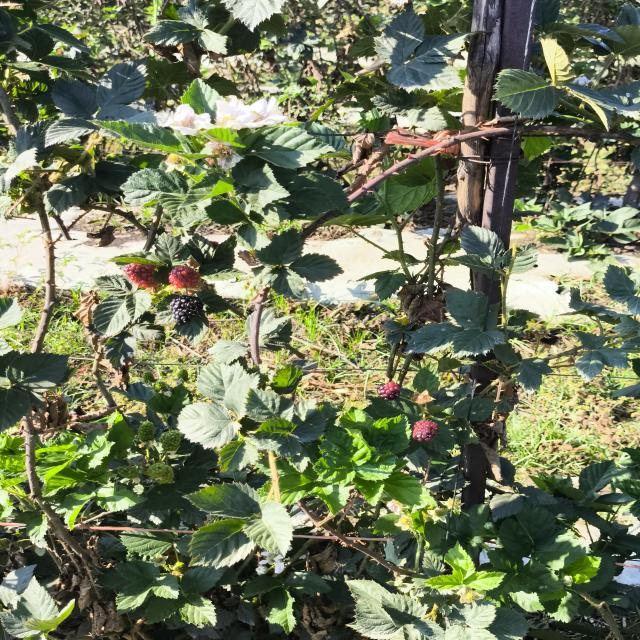flor: (216, 96, 286, 129), (165, 104, 211, 135)
maduro: (170, 295, 204, 325)
marron: (412, 420, 438, 442), (377, 381, 401, 401)
naranja: (124, 263, 158, 288), (168, 265, 199, 289)
